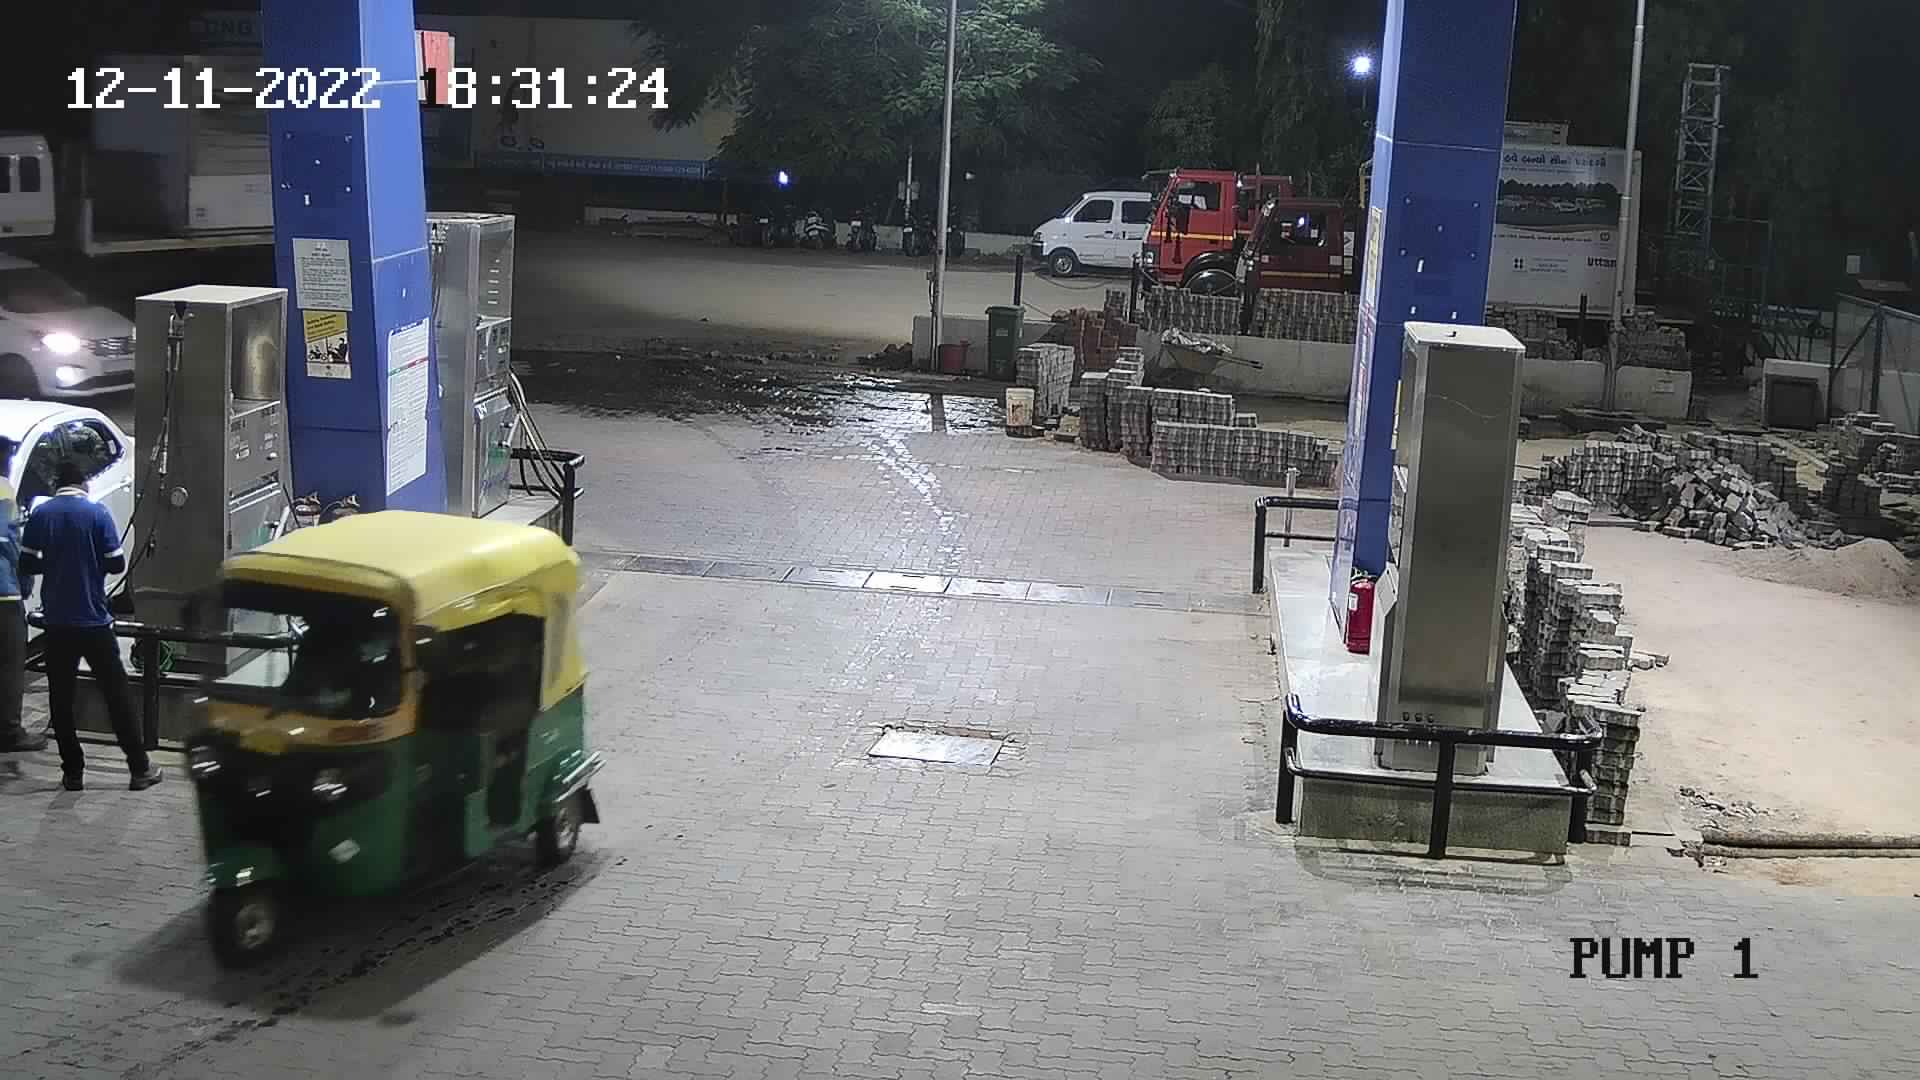Auto: (146, 475, 601, 976)
Bike: (746, 185, 803, 253), (895, 182, 942, 260), (798, 186, 843, 257), (841, 187, 885, 260)
Car: (1, 367, 138, 684), (0, 227, 146, 419), (1027, 182, 1160, 285)
HMV: (0, 34, 276, 287), (1133, 153, 1371, 299), (1222, 186, 1373, 335)
Others: (1, 415, 53, 767)
